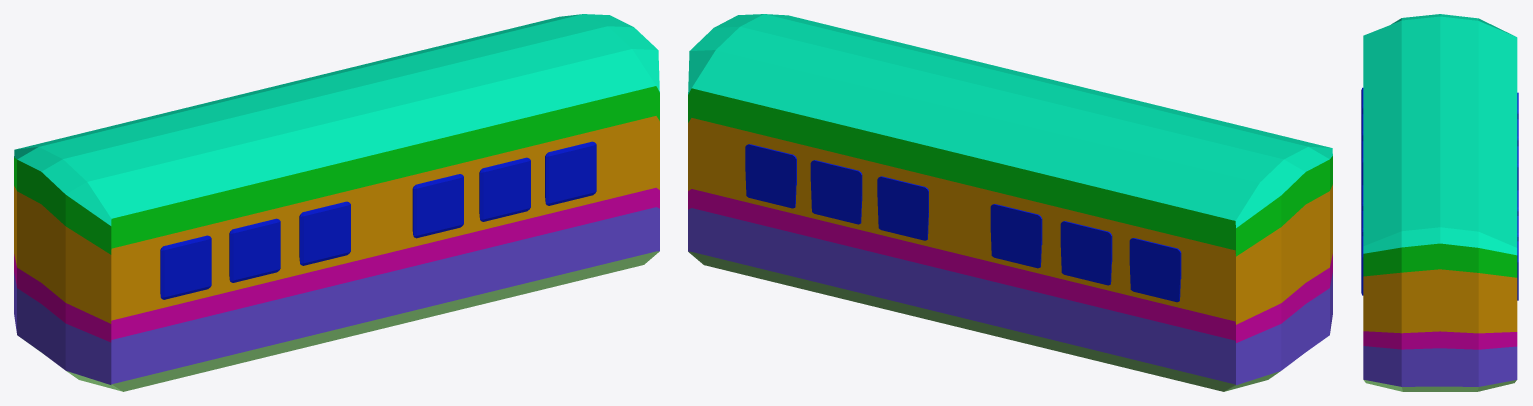
File: fixed_locotrain.fbx
3 renders of one model, left to right at view 1: azimuth 30°, elevation 25°; view 2: azimuth 150°, elevation 25°; view 3: azimuth 270°, elevation 25°, orthographic. The views are drawn at different scales.
Parts seen in each view (by area): view 1: Cube; view 2: Cube; view 3: Cube.
Part boxes in pixels (x1,y1,x2,y2): Cube: (14,14,659,391); Cube: (688,14,1332,391); Cube: (1361,14,1518,391).
Bounding box in the file's own units: 210 × 726 × 236.
